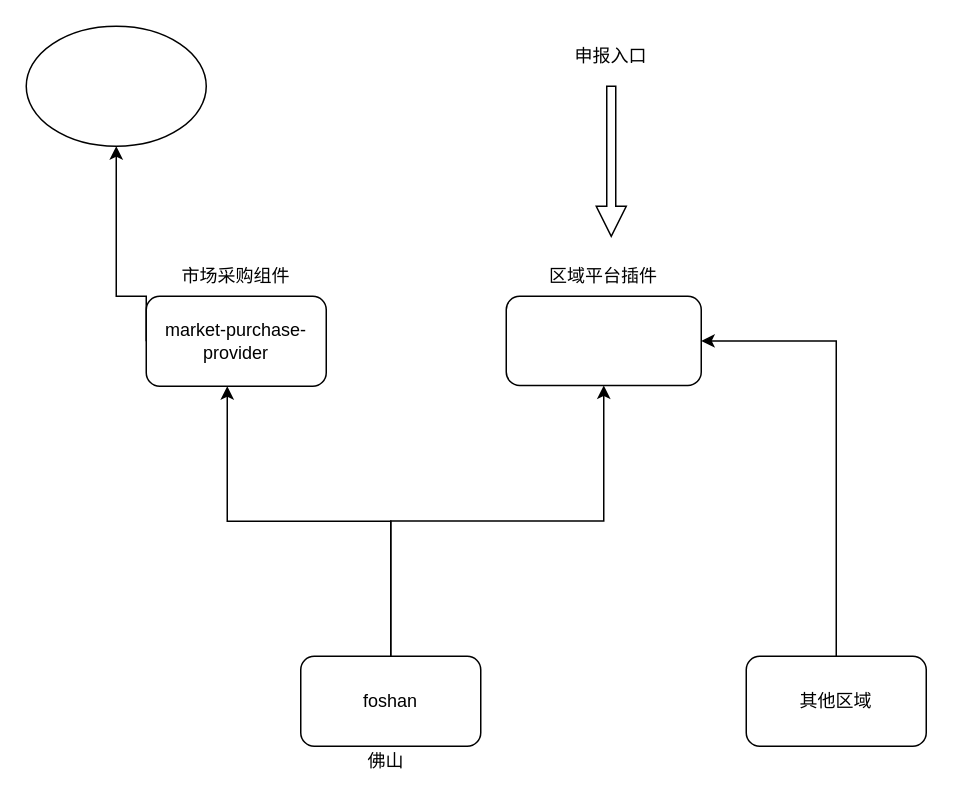
Some shapes in this 953 by 803 pixel diagram are drawn without their labels. Here are the shapes that lost their labels. From the top down, the centre of each, then its label:
At (115,85): "提供获取session、市场采购接口".
At (603,340): "region-platform".
